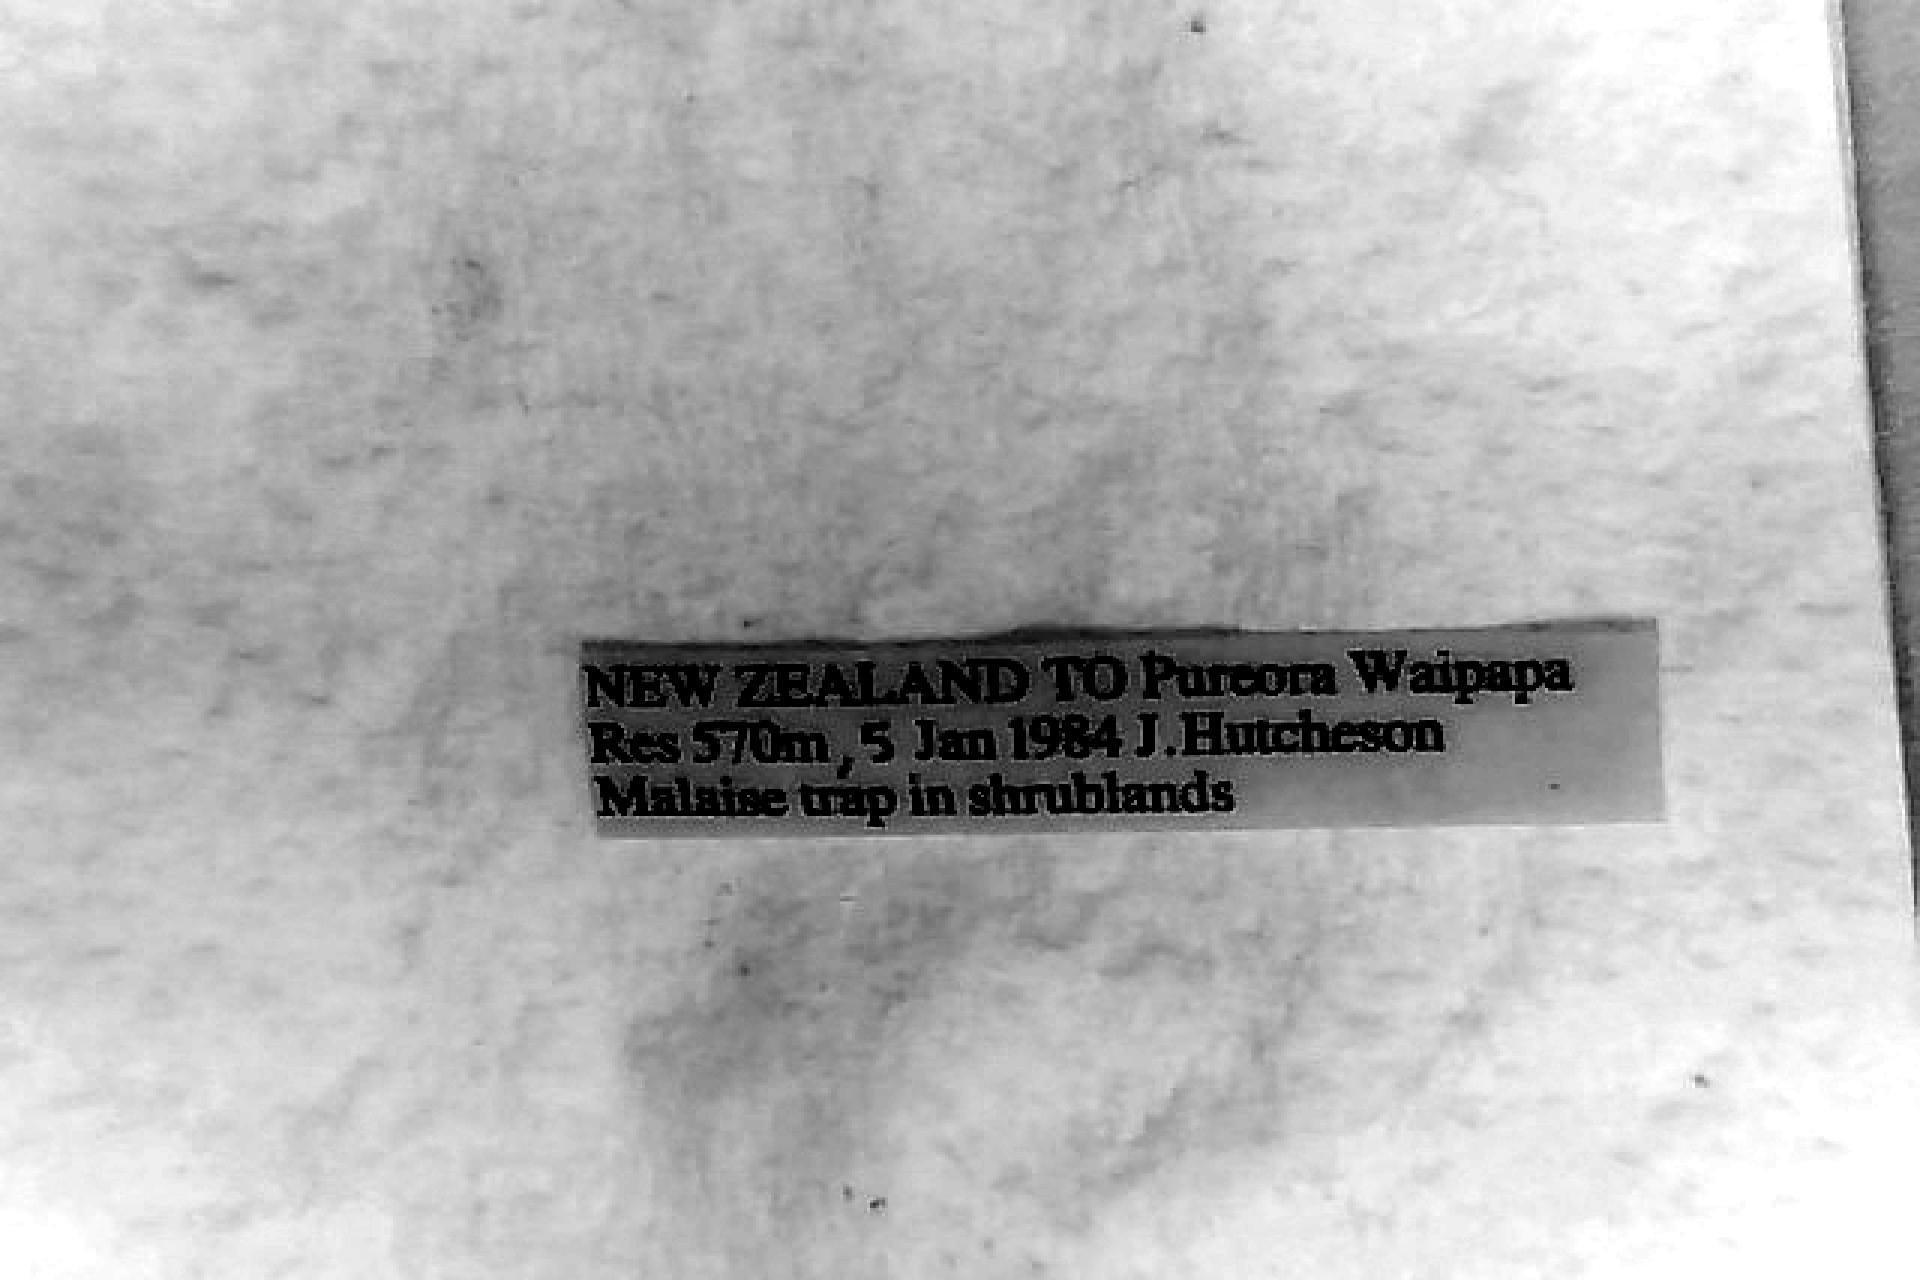typed_label: (585, 623, 1658, 835)
